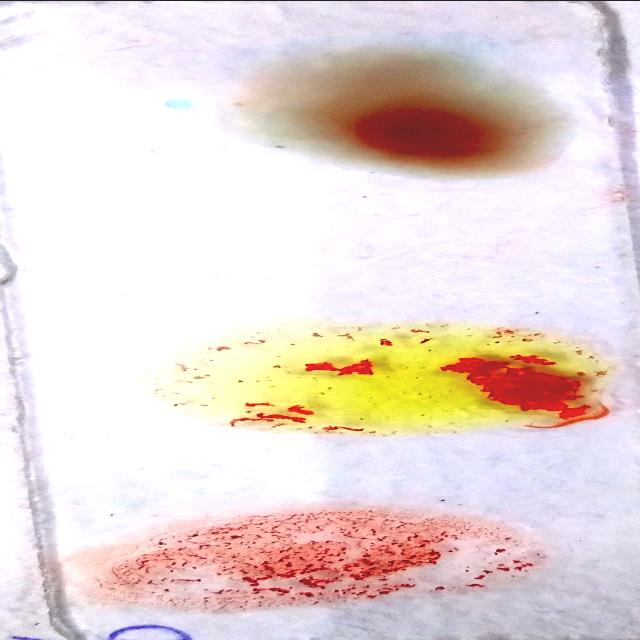B: (160, 328, 606, 434)
D: (101, 512, 547, 606)
